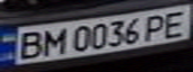0: (66, 24, 93, 52), (90, 20, 112, 51)
3: (106, 18, 127, 47)
6: (121, 15, 148, 45)
B: (9, 29, 48, 61)
E: (157, 7, 193, 38)
M: (36, 26, 69, 56)
P: (139, 11, 172, 42)
